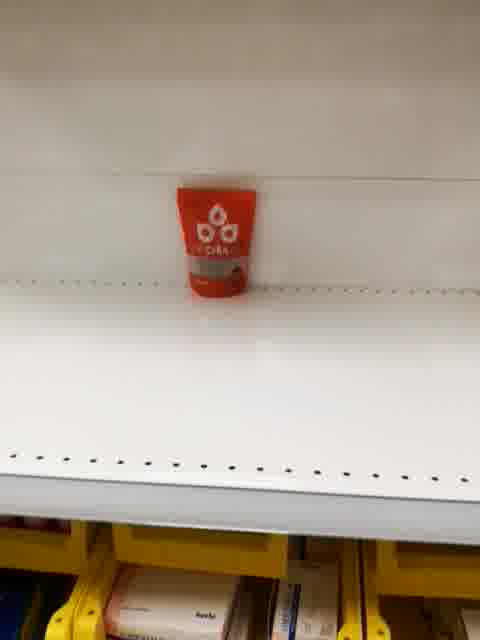whitechia: (176, 183, 262, 299)
